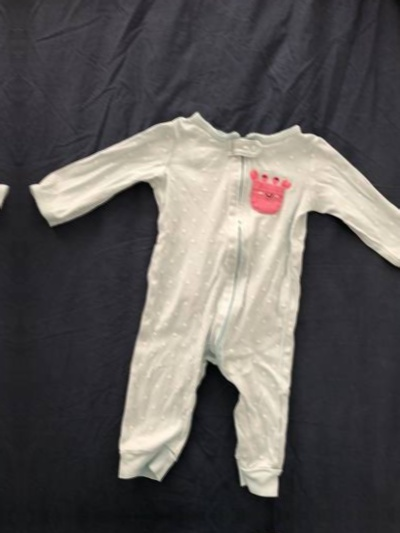Body: (32, 92, 400, 505), (0, 94, 7, 508), (35, 528, 400, 533), (0, 530, 10, 533)
